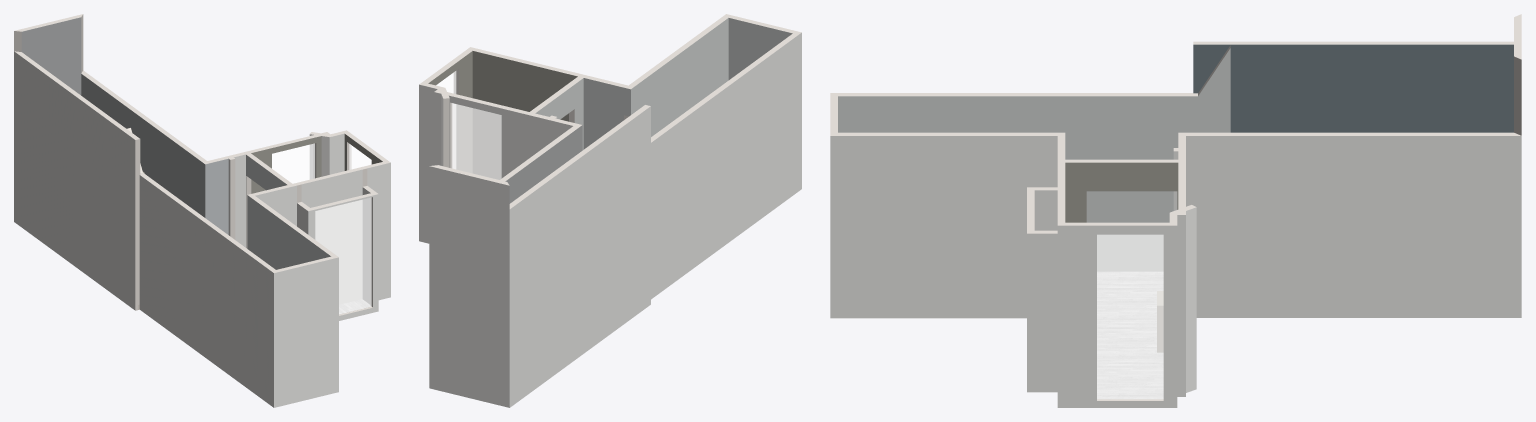
Rendered from SouthStairsNearTheater.glb.
3 views of the same model, side by side, from view 1: azimuth 30°, elevation 25°; view 2: azimuth 150°, elevation 25°; view 3: azimuth 270°, elevation 25° (orthographic). The views are drawn at different scales.
Visible parts, largest first — view 1: wall_18, wall_5, wall_20, wall_14, wall_40, door_0, door_3, wall_26, wall_42, wall_22, wall_66, wall_61 (+22 smaller); view 2: wall_18, wall_5, wall_9, wall_26, door_1, door_4, wall_52, wall_68, wall_56, wall_64, wall_12, wall_4 (+13 smaller); view 3: wall_8, wall_1, wall_60, wall_34, wall_19, door_2, door_5, wall_0, wall_36, floor_Other_2, floor_Other_1, wall_3 (+7 smaller).
Boxes of the visible parts, bbox=[...] form: wall_18: bbox=[14, 51, 135, 310]; wall_5: bbox=[139, 175, 273, 407]; wall_20: bbox=[274, 257, 338, 407]; wall_14: bbox=[301, 169, 362, 304]; wall_40: bbox=[81, 74, 205, 217]; door_0: bbox=[315, 198, 371, 314]; door_3: bbox=[315, 198, 371, 313]; wall_26: bbox=[247, 195, 330, 269]; wall_42: bbox=[21, 17, 81, 95]; wall_22: bbox=[367, 162, 390, 300]; wall_66: bbox=[205, 158, 228, 234]; wall_61: bbox=[14, 51, 140, 310]; wall_18: bbox=[509, 106, 650, 407]; wall_5: bbox=[651, 32, 801, 299]; wall_9: bbox=[429, 166, 509, 407]; wall_26: bbox=[631, 18, 728, 136]; door_1: bbox=[452, 103, 501, 179]; door_4: bbox=[452, 103, 501, 179]; wall_52: bbox=[497, 57, 573, 179]; wall_68: bbox=[472, 51, 497, 178]; wall_56: bbox=[583, 78, 630, 149]; wall_64: bbox=[728, 18, 792, 79]; wall_12: bbox=[449, 95, 528, 178]; wall_4: bbox=[419, 84, 437, 243]; wall_8: bbox=[1186, 136, 1521, 317]; wall_1: bbox=[830, 136, 1057, 318]; wall_60: bbox=[1193, 44, 1513, 132]; wall_34: bbox=[838, 48, 1230, 271]; wall_19: bbox=[1057, 225, 1177, 407]; door_2: bbox=[1097, 235, 1163, 398]; door_5: bbox=[1097, 235, 1163, 398]; wall_0: bbox=[1027, 233, 1057, 392]; wall_36: bbox=[1065, 162, 1178, 222]; floor_Other_2: bbox=[1097, 336, 1163, 398]; floor_Other_1: bbox=[1097, 272, 1163, 335]; wall_3: bbox=[1186, 207, 1196, 392].
Bounding box in the file's own units: 4.2 × 3.78 × 9.05.
